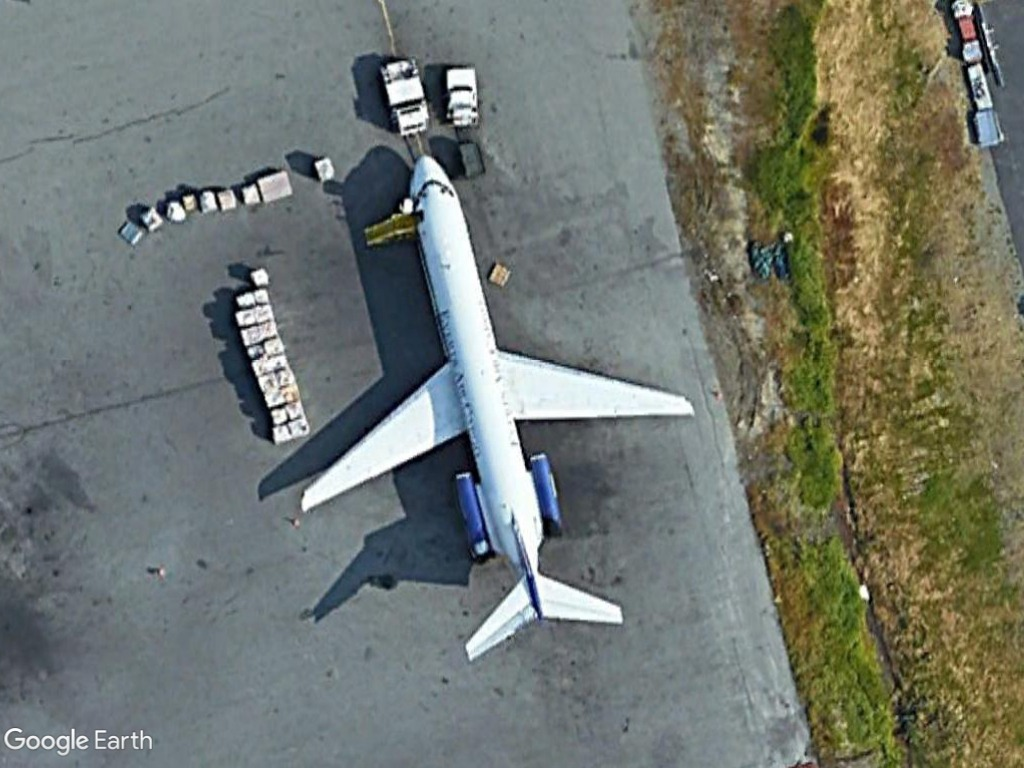chartered: (286, 148, 700, 670)
stairtruck: (358, 204, 418, 251)
